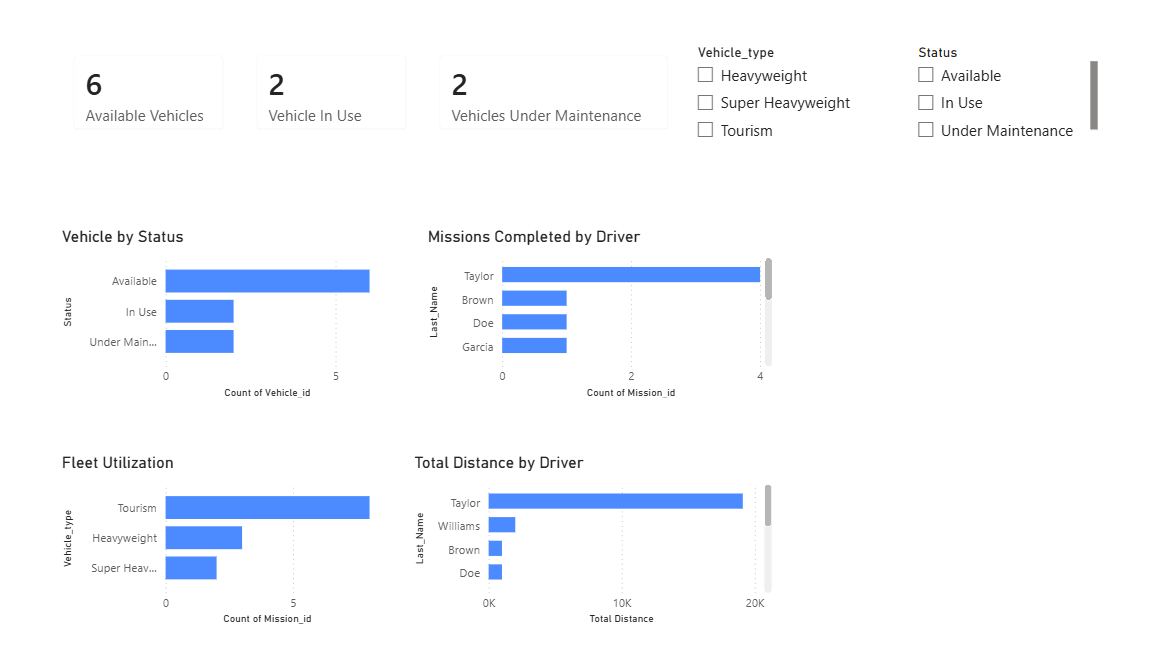

The page's visual inventory and layout, read from the dashboard file:
{"tool":"powerbi","page":{"name":"Fleet Operations","canvas":[1280,720],"ordinal":1},"visuals":[{"type":"cardVisual","fields":{"Data":["Vehicle.Available Vehicles"]},"box":[72.7,57.5,192.3,112.1],"z":0},{"type":"cardVisual","fields":{"Data":["Vehicle.Vehicle In Use"]},"box":[265,57.5,192.3,112.1],"z":1000},{"type":"cardVisual","fields":{"Data":["Vehicle.Vehicles Under Maintenance"]},"box":[457.3,57.5,275.6,112.1],"z":2000},{"type":"clusteredBarChart","title":"Vehicle by Status","fields":{"Category":["Vehicle.Status"],"Y":["CountNonNull(Vehicle.Vehicle_id)"]},"box":[72.7,254.4,337.7,184.7],"z":3000},{"type":"clusteredBarChart","title":"Missions Completed by Driver","fields":{"Category":["Driver.Last_Name"],"Y":["CountNonNull(Mission.Mission_id)"]},"box":[457.3,254.4,372.5,184.7],"z":4000},{"type":"clusteredBarChart","title":"Fleet Utilization","fields":{"Category":["Vehicle.Vehicle_type"],"Y":["CountNonNull(Mission.Mission_id)"]},"box":[72.7,492.1,337.7,184.7],"z":5000},{"type":"clusteredBarChart","title":"Total Distance by Driver","fields":{"Category":["Driver.Last_Name"],"Y":["Mission.Total Distance"]},"box":[443.7,492.1,386.1,184.7],"z":6000},{"type":"slicer","fields":{"Values":["Vehicle.Vehicle_type"]},"box":[734.2,56.8,232.1,116.8],"z":6001},{"type":"slicer","fields":{"Values":["Vehicle.Status"]},"box":[966.3,56.8,206.8,112.1],"z":6002}]}

Visuals, with their boxes in screenshot pixels (x1, y1, x2, y2), scaled from the page's 1280x720 canvas onto the 1174x661 screenshot:
cardVisual - Vehicle.Available Vehicles: (x1=67, y1=53, x2=243, y2=156)
cardVisual - Vehicle.Vehicle In Use: (x1=243, y1=53, x2=419, y2=156)
cardVisual - Vehicle.Vehicles Under Maintenance: (x1=419, y1=53, x2=672, y2=156)
"Vehicle by Status" clusteredBarChart: (x1=67, y1=234, x2=376, y2=403)
"Missions Completed by Driver" clusteredBarChart: (x1=419, y1=234, x2=761, y2=403)
"Fleet Utilization" clusteredBarChart: (x1=67, y1=452, x2=376, y2=621)
"Total Distance by Driver" clusteredBarChart: (x1=407, y1=452, x2=761, y2=621)
slicer - Vehicle.Vehicle_type: (x1=673, y1=52, x2=886, y2=159)
slicer - Vehicle.Status: (x1=886, y1=52, x2=1076, y2=155)
